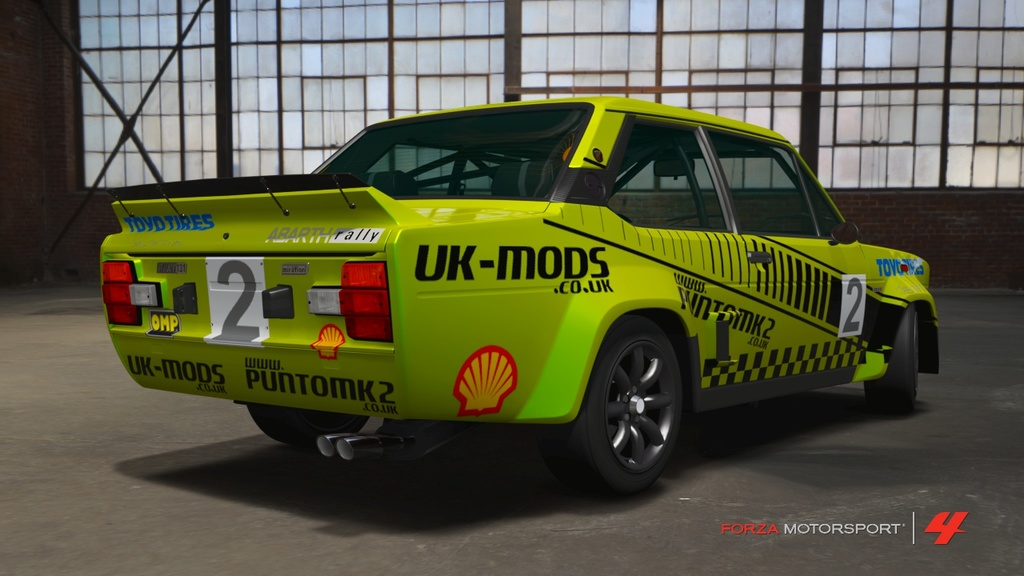car: (72, 66, 968, 518)
